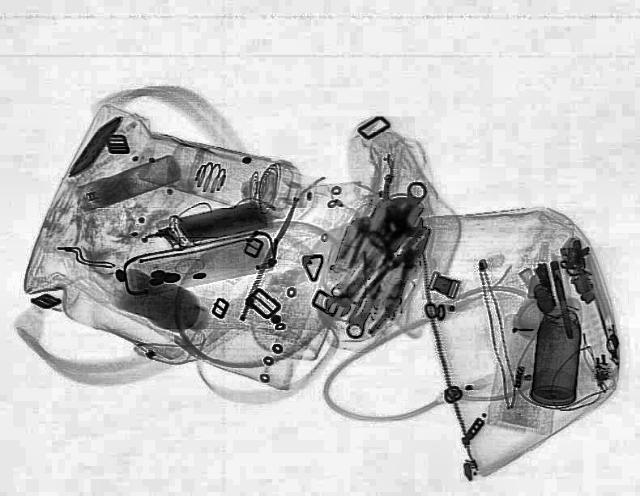Wrench: (316, 177, 434, 317)
